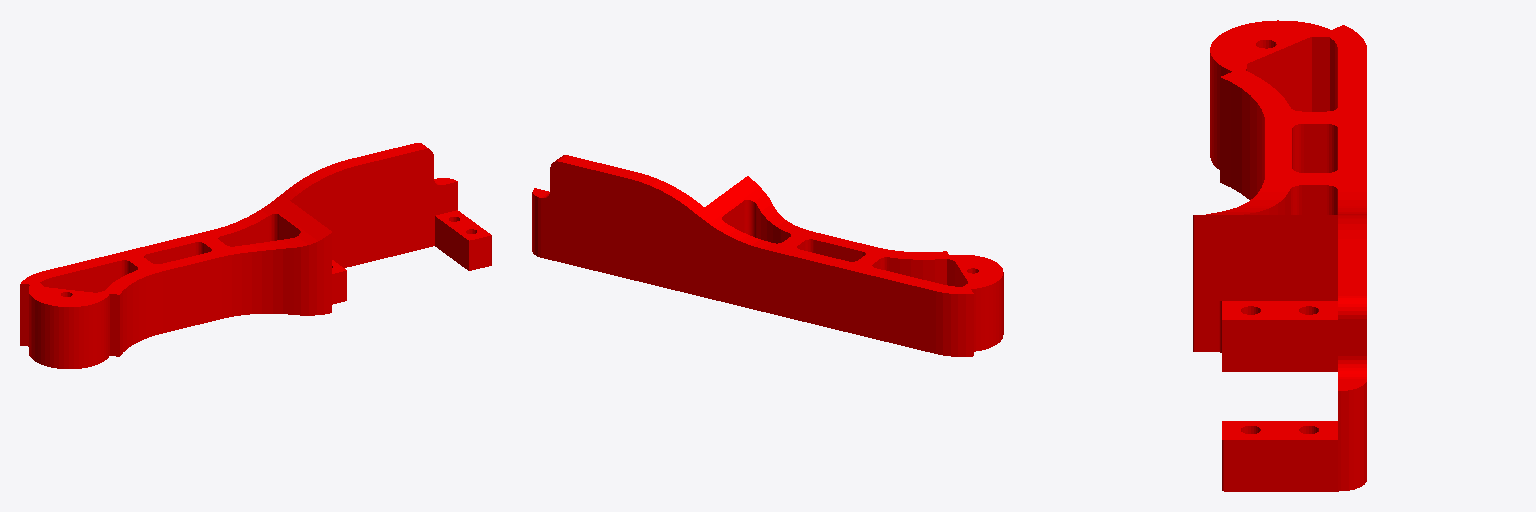
robot.urdf — test_robot:
<!--
    $ cd gazebo_tutorial
    $ roslaunch gazebo_tutorial urdf_display.launch model:=stl_body.urdf
-->

<robot name="test_robot">
    <link name="base_link"/>

    <joint name="body_joint" type="fixed">
        <parent link="base_link"/>
        <child link="body_link"/>
    </joint>

    <link name="body_link">
        <visual>
            <geometry>
                <mesh filename="package://gazebo_tutorial/stl/stl_part.stl"/>
            </geometry>
            <origin xyz="0 0 0" rpy="0 0 0"/>
            <material name="red">
                <color rgba="1.0 0.0 0.0 1.0"/>
            </material>
        </visual>
    </link>
</robot>

--- What the picture shows (computed from the rendered views, not written in the file) ---
3 views of the same robot in one strip: view 1: azimuth 30°, elevation 25°; view 2: azimuth 150°, elevation 25°; view 3: azimuth 270°, elevation 25° (orthographic).
Model test_robot with 2 links and 1 joints (1 fixed), rooted at base_link, posed all joints at 0.
Visible links, largest first — view 1: body_link; view 2: body_link; view 3: body_link.
Boxes of the visible links, x1,y1,x2,y2 form: body_link: [20, 143, 491, 368]; body_link: [532, 155, 1003, 356]; body_link: [1193, 20, 1366, 491].
Size in the robot's own frame: 1.48 by 0.2999 by 0.32 metres.
Meshes: 1 distinct files referenced, 1 mesh visuals loaded (1 binary STL).